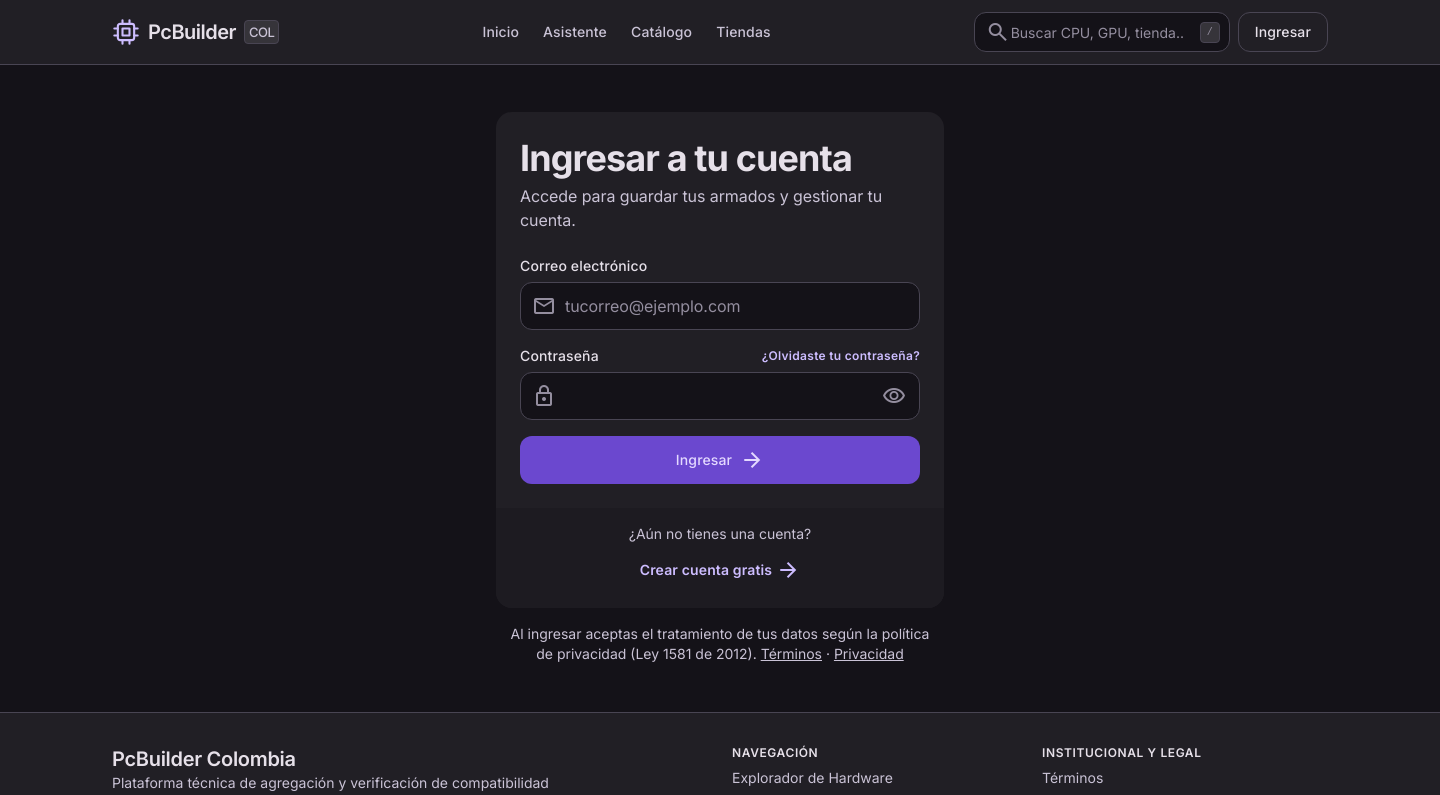
Test: Ingresar: resultado › credenciales incorrectas muestran el aviso y dejan escribir de nuevo
Expected: the password field labelled "Contraseña" is shown, [520, 372, 920, 420]
Type "comprador@demo.pcbuilder.co" into the field labelled "Correo electrónico" at (720, 306), box [520, 282, 920, 330]
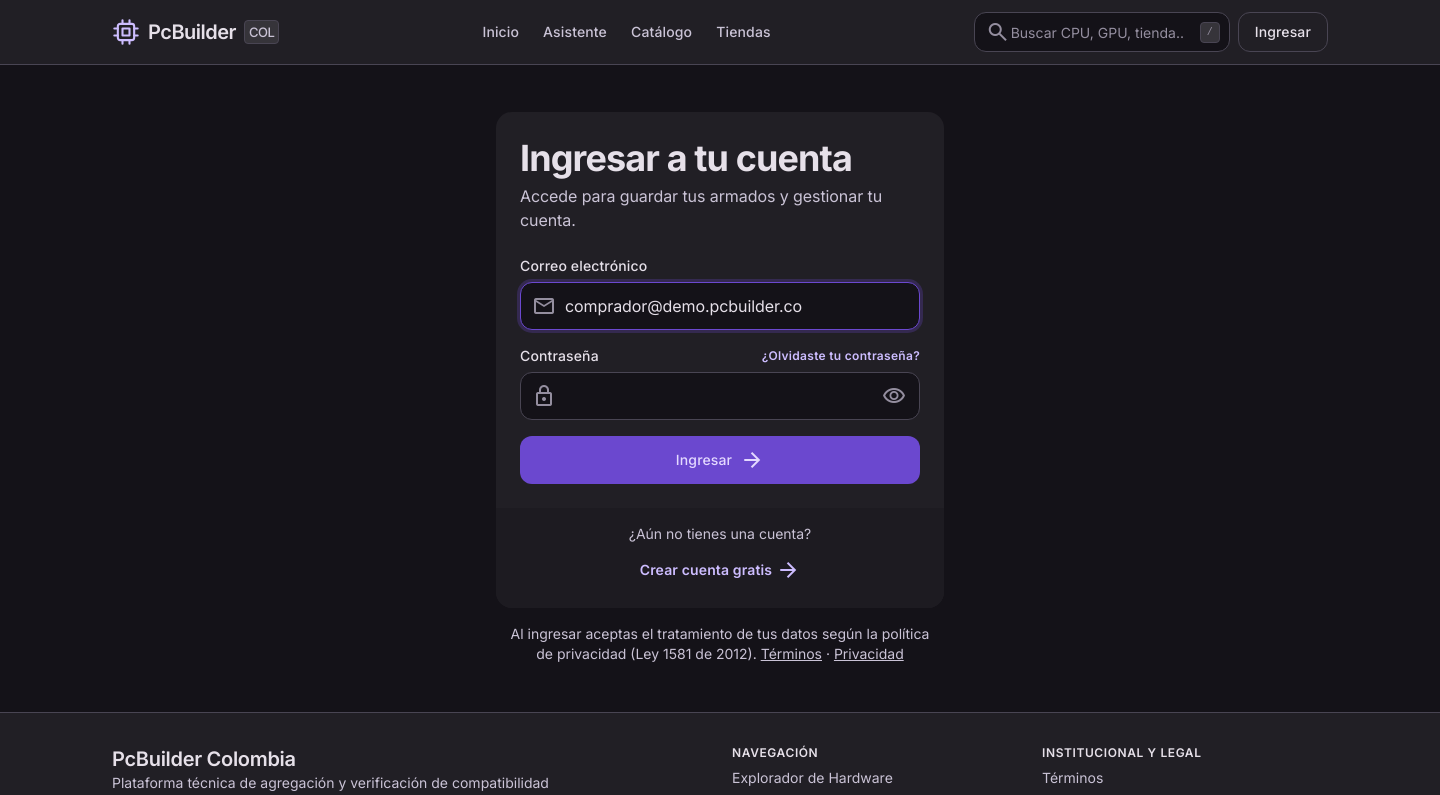
Type "incorrecta1" into the password field labelled "Contraseña" at (720, 396), box [520, 372, 920, 420]
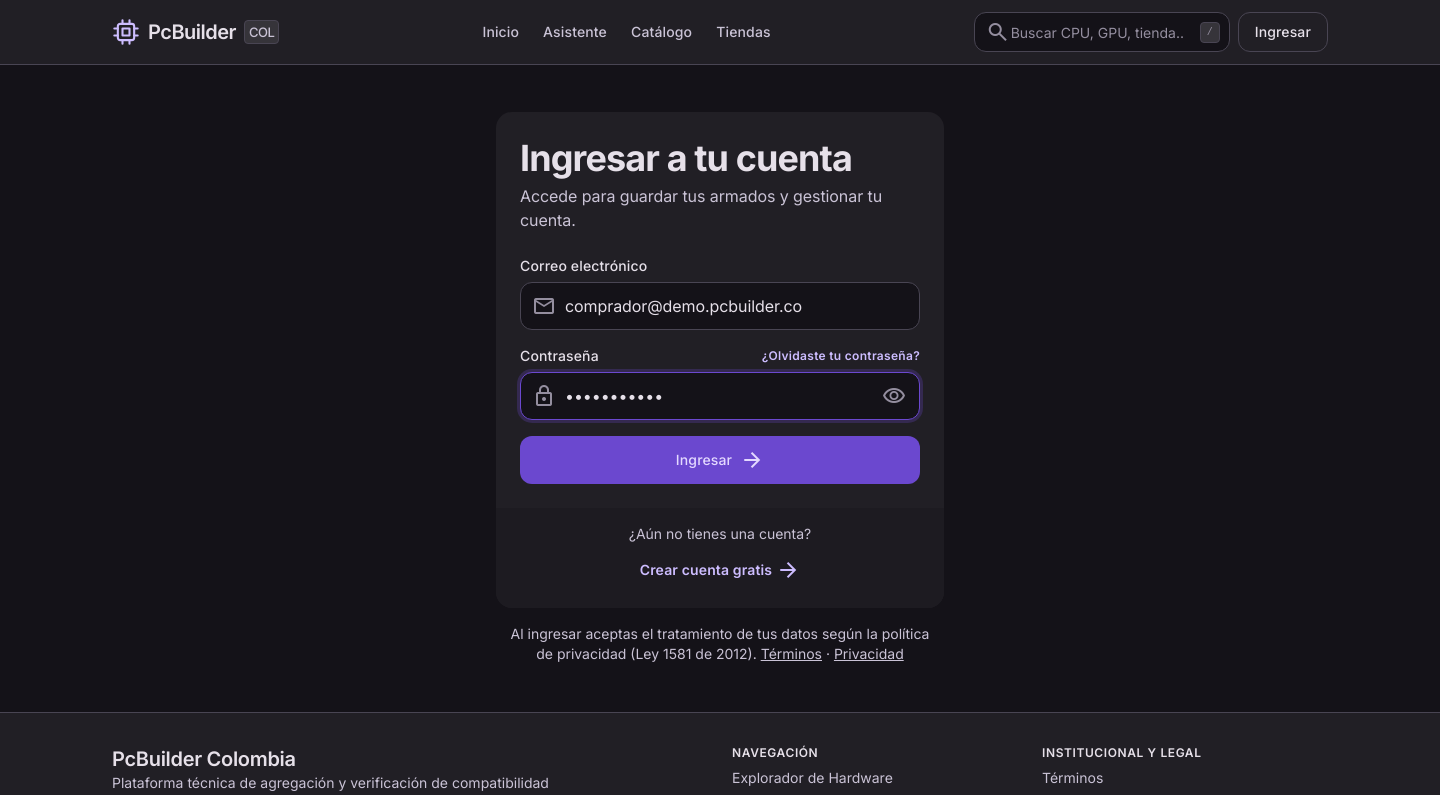
Click the button "Ingresar" at (720, 460), box [520, 436, 920, 484]
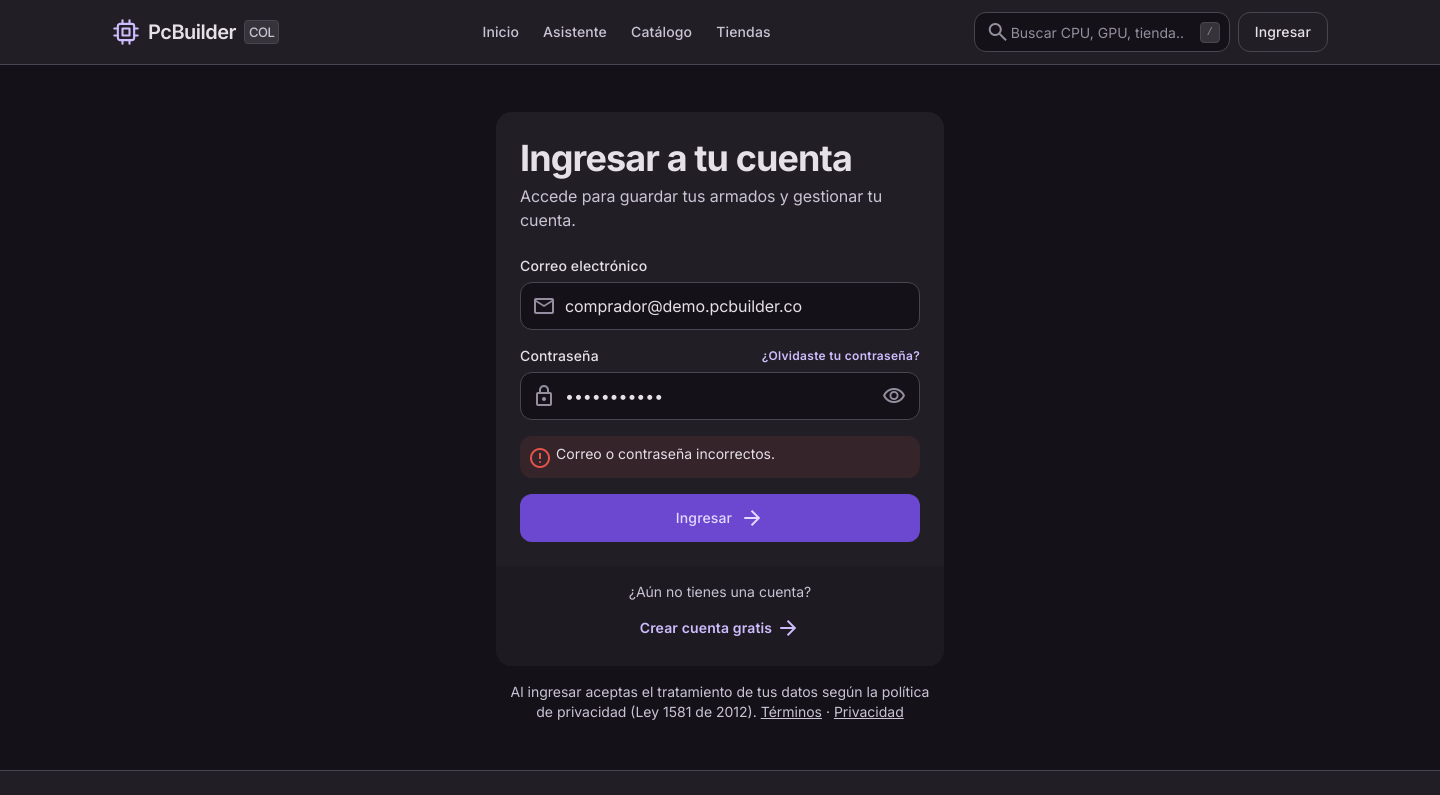
Expected: the button "Ingresar" is enabled, [520, 494, 920, 542]
Expected: the message reads "Correo o contraseña incorrectos.", [556, 445, 775, 462]
